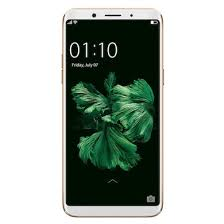oppo: (59, 6, 164, 219)
